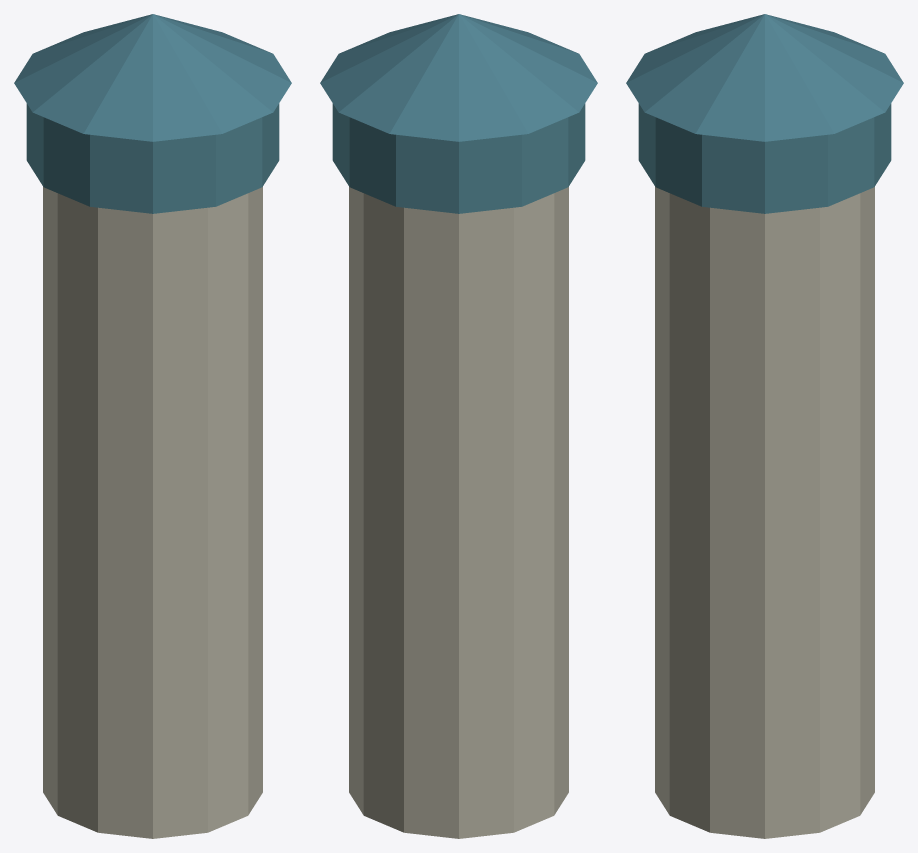
Rendered from block_lighthouse.glb.
3 renders of one model, left to right at view 1: azimuth 30°, elevation 25°; view 2: azimuth 150°, elevation 25°; view 3: azimuth 270°, elevation 25°, orthographic.
Parts seen in each view (by area): view 1: Shaft, BeaconRoof, Lantern; view 2: Shaft, BeaconRoof, Lantern; view 3: Shaft, BeaconRoof, Lantern.
Part boxes in pixels (<box>): Shaft: <box>43,187,262,838</box>; BeaconRoof: <box>14,14,291,141</box>; Lantern: <box>26,103,279,213</box>; Shaft: <box>349,187,568,838</box>; BeaconRoof: <box>320,14,597,141</box>; Lantern: <box>332,103,585,213</box>; Shaft: <box>655,187,874,838</box>; BeaconRoof: <box>626,14,903,141</box>; Lantern: <box>638,103,891,213</box>.
Bounding box in the file's own units: 11 × 34 × 11.
